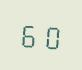six: (19, 18, 39, 49)
zero: (40, 19, 60, 51)
